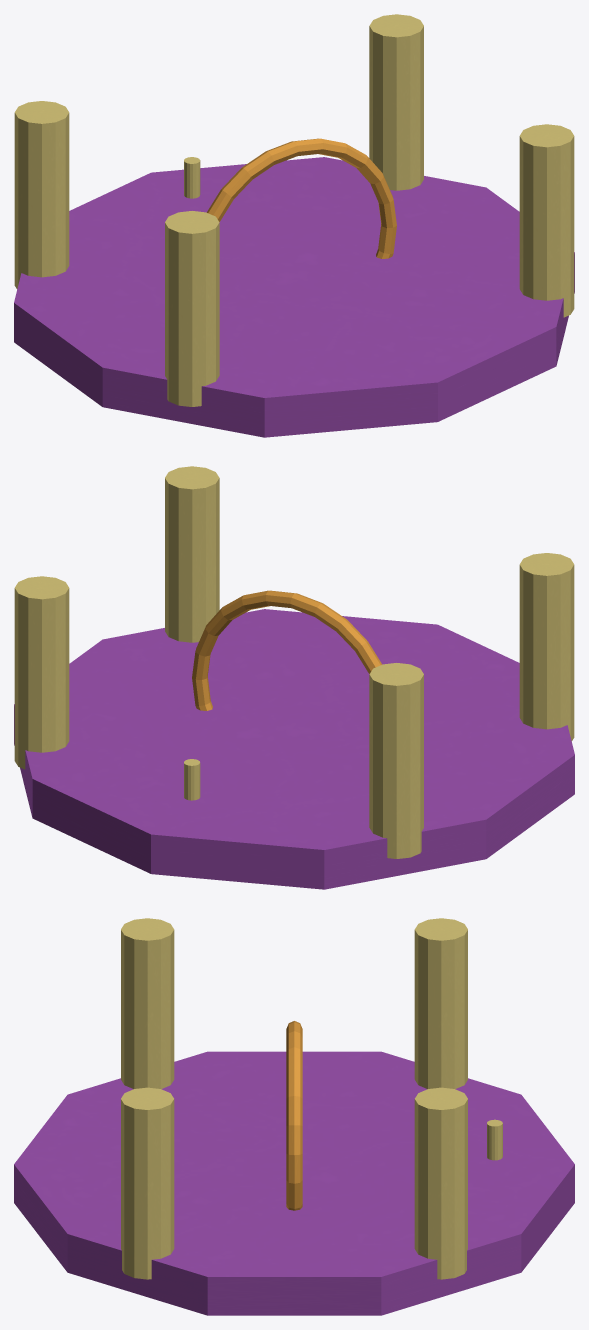
The model's file is abyss-chancel.glb.
The picture shows the model from 3 angles, top to bottom: view 1: azimuth 30°, elevation 25°; view 2: azimuth 150°, elevation 25°; view 3: azimuth 270°, elevation 25°; orthographic projection. The views are drawn at different scales.
Visible parts, largest first — view 1: chancel-floor, chancel-pillar-2, chancel-pillar-3, chancel-pillar-0, chancel-pillar-1, chancel-vow-seal, chancel-votive-candle; view 2: chancel-floor, chancel-pillar-0, chancel-pillar-1, chancel-pillar-2, chancel-pillar-3, chancel-vow-seal, chancel-votive-candle; view 3: chancel-floor, chancel-pillar-1, chancel-pillar-3, chancel-pillar-0, chancel-pillar-2, chancel-vow-seal, chancel-votive-candle.
Part boxes in pixels (left/top/right/bottom): chancel-floor: left=14, top=157, right=574, bottom=437; chancel-pillar-2: left=165, top=211, right=219, bottom=406; chancel-pillar-3: left=519, top=124, right=574, bottom=317; chancel-pillar-0: left=14, top=101, right=69, bottom=289; chancel-pillar-1: left=369, top=14, right=423, bottom=190; chancel-vow-seal: left=207, top=138, right=396, bottom=258; chancel-votive-candle: left=184, top=157, right=200, bottom=198; chancel-floor: left=14, top=609, right=574, bottom=889; chancel-pillar-0: left=369, top=663, right=423, bottom=858; chancel-pillar-1: left=14, top=576, right=69, bottom=769; chancel-pillar-2: left=519, top=553, right=574, bottom=741; chancel-pillar-3: left=165, top=466, right=219, bottom=642; chancel-vow-seal: left=192, top=590, right=381, bottom=710; chancel-votive-candle: left=184, top=759, right=200, bottom=800; chancel-floor: left=14, top=1051, right=574, bottom=1315; chancel-pillar-1: left=414, top=1087, right=467, bottom=1279; chancel-pillar-3: left=121, top=1087, right=174, bottom=1279; chancel-pillar-0: left=414, top=918, right=467, bottom=1088; chancel-pillar-2: left=121, top=918, right=174, bottom=1088; chancel-vow-seal: left=286, top=1021, right=302, bottom=1210; chancel-votive-candle: left=487, top=1119, right=502, bottom=1160.
Size of the model in its own units: 2 by 0.93 by 2.1.
3 materials, 3 textured.
